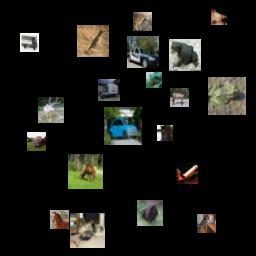airplane: (176, 162, 198, 184)
automobile: (104, 107, 142, 145), (127, 36, 159, 68)
bird: (77, 25, 109, 57)
cat: (70, 213, 105, 248), (197, 214, 216, 233)
deer: (68, 154, 103, 189), (38, 97, 64, 123)
dog: (137, 200, 163, 226), (211, 9, 227, 25)
frog: (208, 77, 246, 115), (169, 39, 201, 71), (133, 12, 152, 31), (146, 72, 162, 88)
truck: (98, 79, 120, 101), (20, 33, 39, 52), (27, 132, 46, 151)
